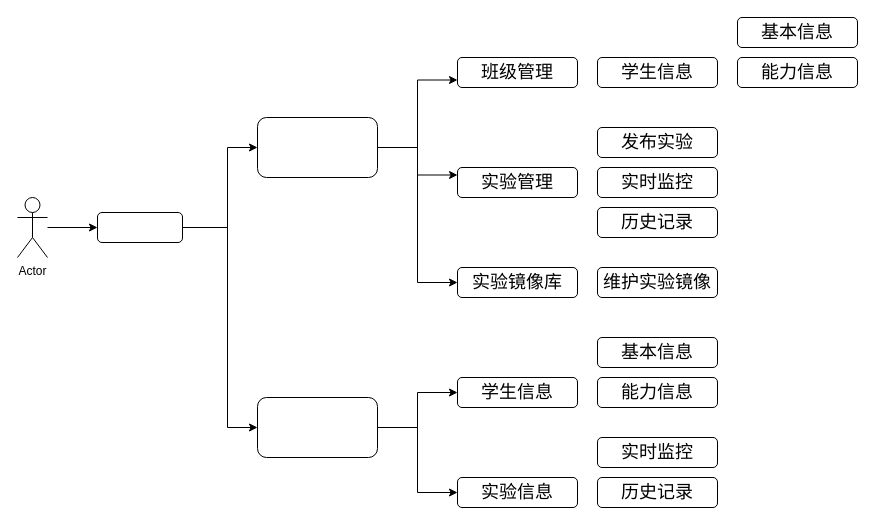
Image size: 875x525. Some labels were removed from this diagram. The shapes that lost their labels are listed below. From the top down, each one's centre as x and y in pixels, then its label:
At point (317, 147): "监管者页面 （教师）".
At point (139, 227): "登录".
At point (317, 427): "实验者页面 （学生）".
